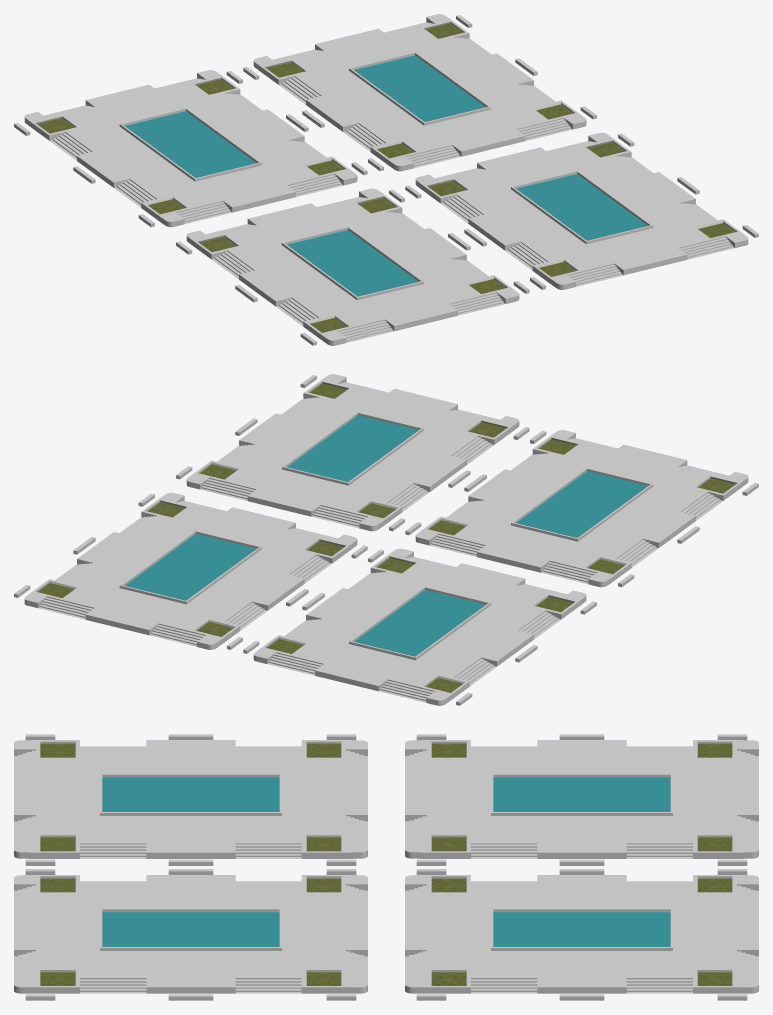
Rendered from perrache_lp_b_2.glb.
3 renders of one model, top to bottom at view 1: azimuth 30°, elevation 25°; view 2: azimuth 150°, elevation 25°; view 3: azimuth 270°, elevation 25°, orthographic. The views are drawn at different scales.
Visible parts, largest first — view 1: places; view 2: places; view 3: places.
Boxes of the visible parts, <box> form: places: <box>14,14,758,345</box>; places: <box>14,374,758,705</box>; places: <box>14,734,758,1000</box>.
Size of the model in its own units: 226 by 3.78 by 271.
4 materials, 2 textured.
